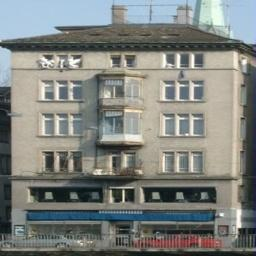building: (7, 2, 238, 244)
